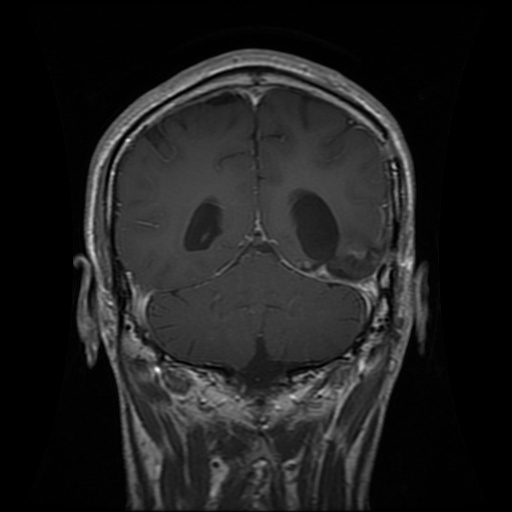glioma: (290, 187, 383, 278)
